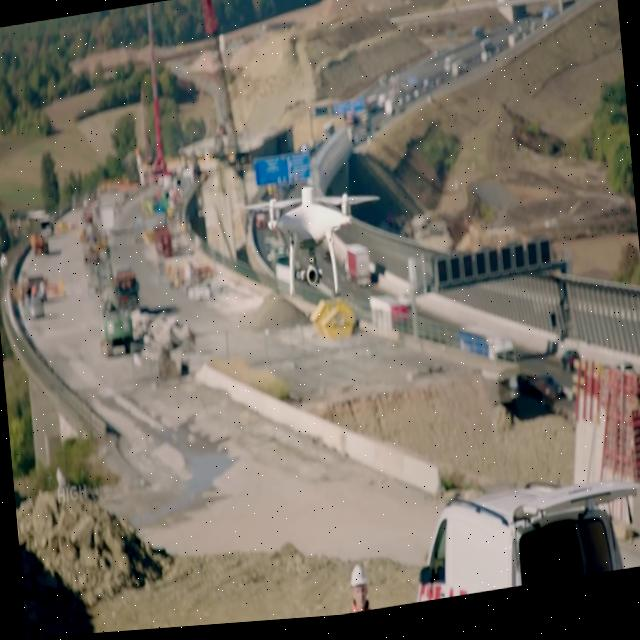drone: (241, 176, 387, 312)
